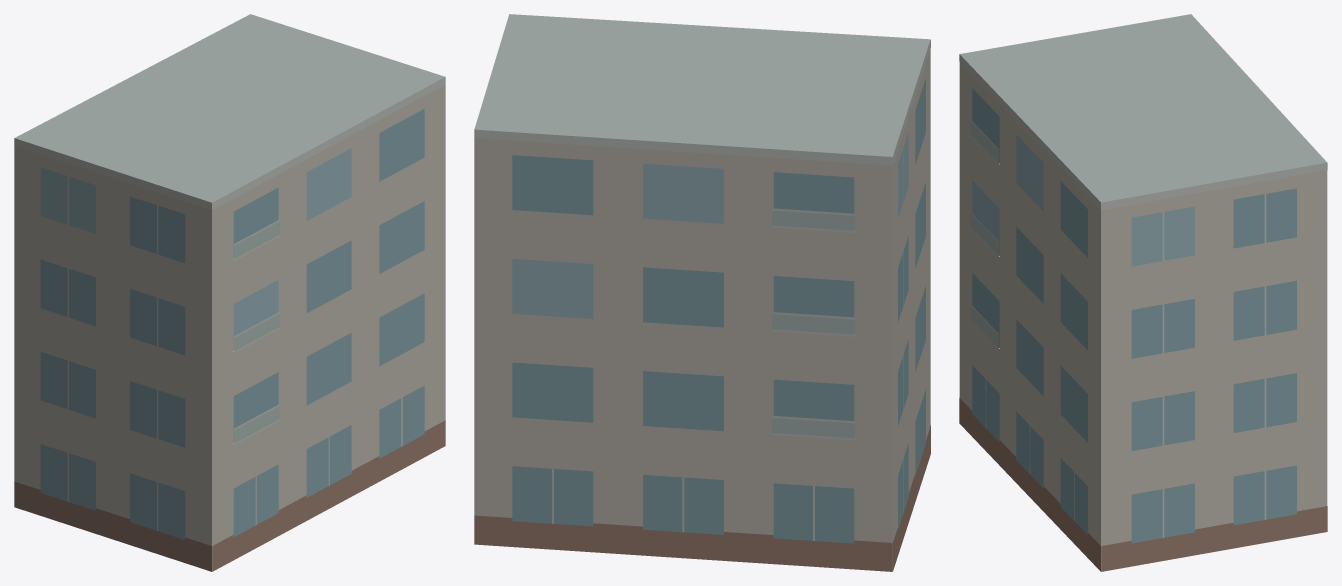
Rendered from survey-upis-33006527.glb.
3 views of the same model, side by side, from view 1: azimuth 30°, elevation 25°; view 2: azimuth 150°, elevation 25°; view 3: azimuth 270°, elevation 25° (orthographic). The views are drawn at different scales.
Visible parts, largest first — view 1: survey-upis-33006527.tmp; view 2: survey-upis-33006527.tmp; view 3: survey-upis-33006527.tmp.
Part boxes in pixels (left/top/right/bottom): survey-upis-33006527.tmp: left=14, top=14, right=445, bottom=571; survey-upis-33006527.tmp: left=474, top=14, right=930, bottom=571; survey-upis-33006527.tmp: left=959, top=14, right=1327, bottom=571.
Bounding box in the file's own units: 12.93 × 11.8 × 10.66.
